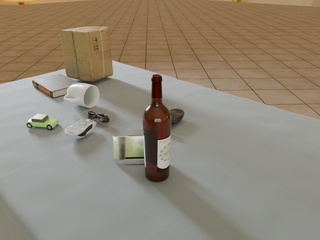book: (32, 74, 79, 98)
bottle: (143, 74, 172, 182)
box: (60, 26, 113, 81)
cup: (64, 83, 99, 108)
mouse: (65, 118, 97, 138), (169, 109, 184, 124)
phone: (113, 136, 145, 160)
toy_car: (26, 114, 59, 130)
